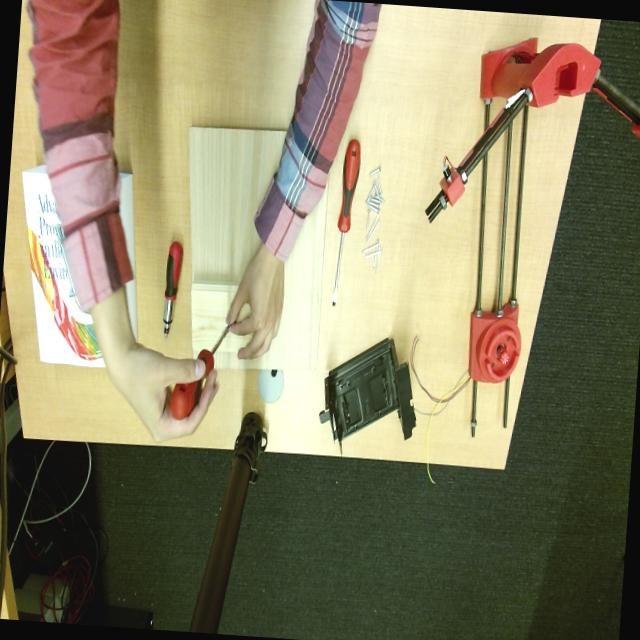screwdriver: (170, 325, 229, 419), (331, 139, 360, 305), (162, 241, 182, 338)
